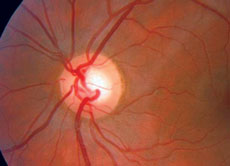Glaucoma section-1: (88, 73, 108, 97)
Glaucoma section-2: (59, 53, 125, 119)
